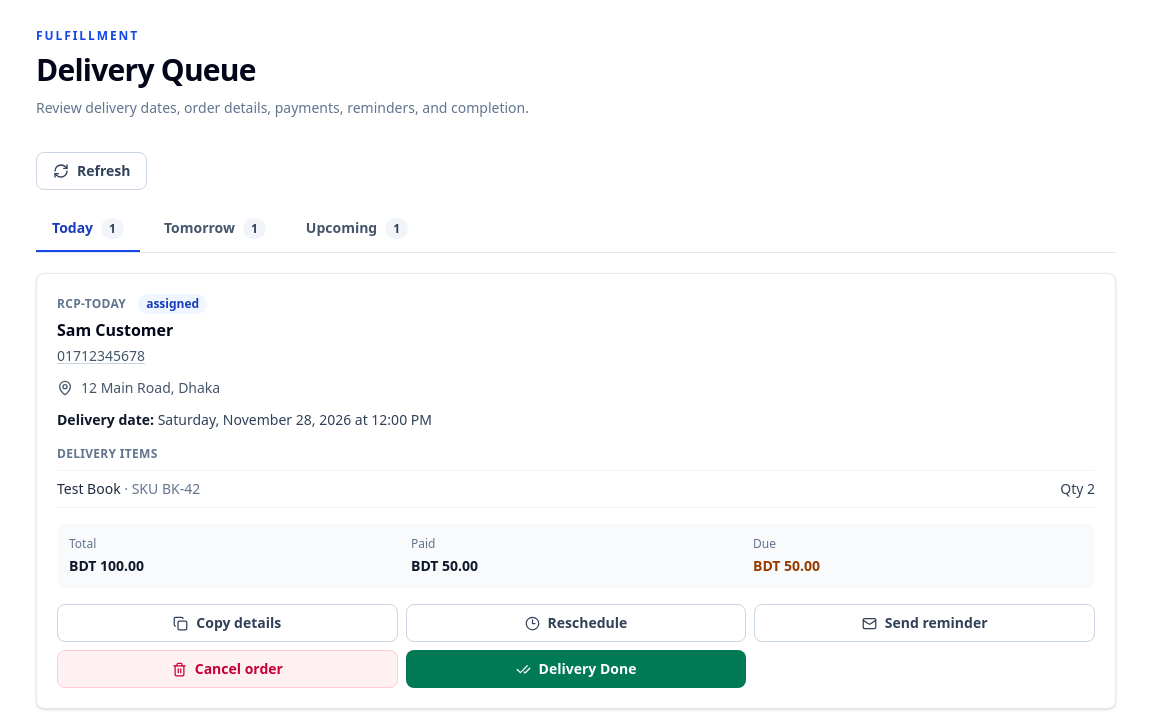
Test: Admin Delivery workflow › validates partial payment acknowledgement and moves delivered order to Delivery Done
Check: the text "RCP-TODAY" is shown, box x1=57 y1=296 x2=126 y2=312
Click the button "Delivery Done": (576, 669) x1=406 y1=650 x2=746 y2=688
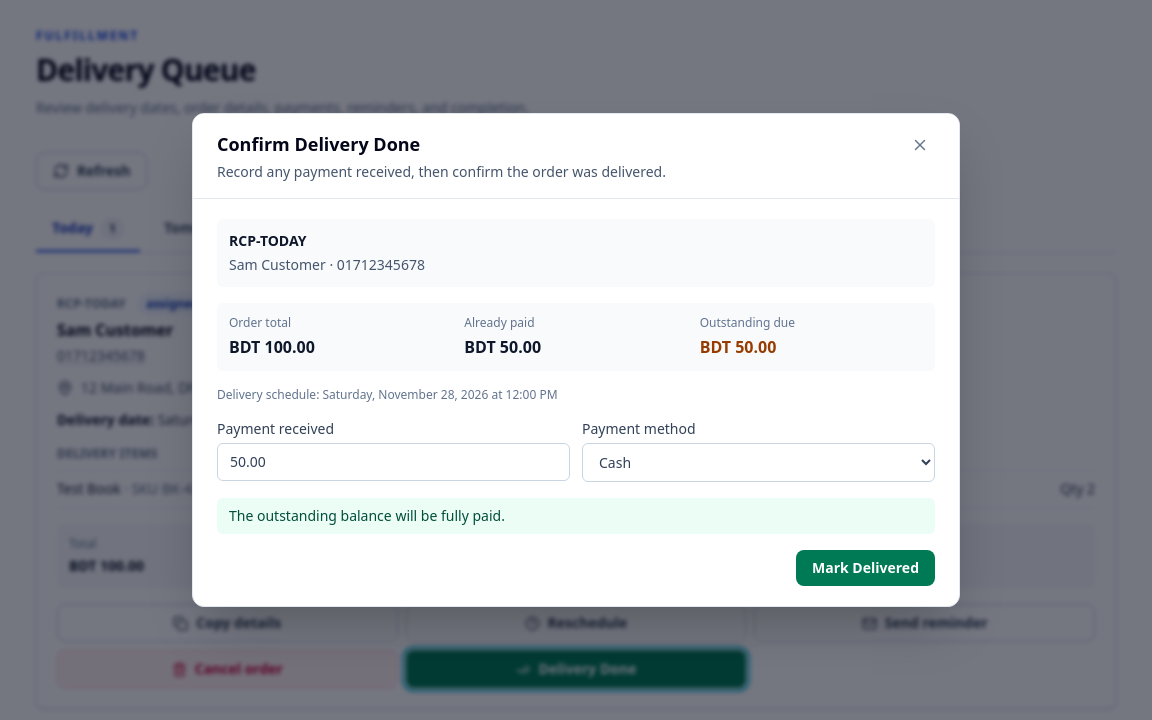
Replace the text in the number field labelled "Payment received" with "25": (394, 462) x1=217 y1=443 x2=570 y2=481
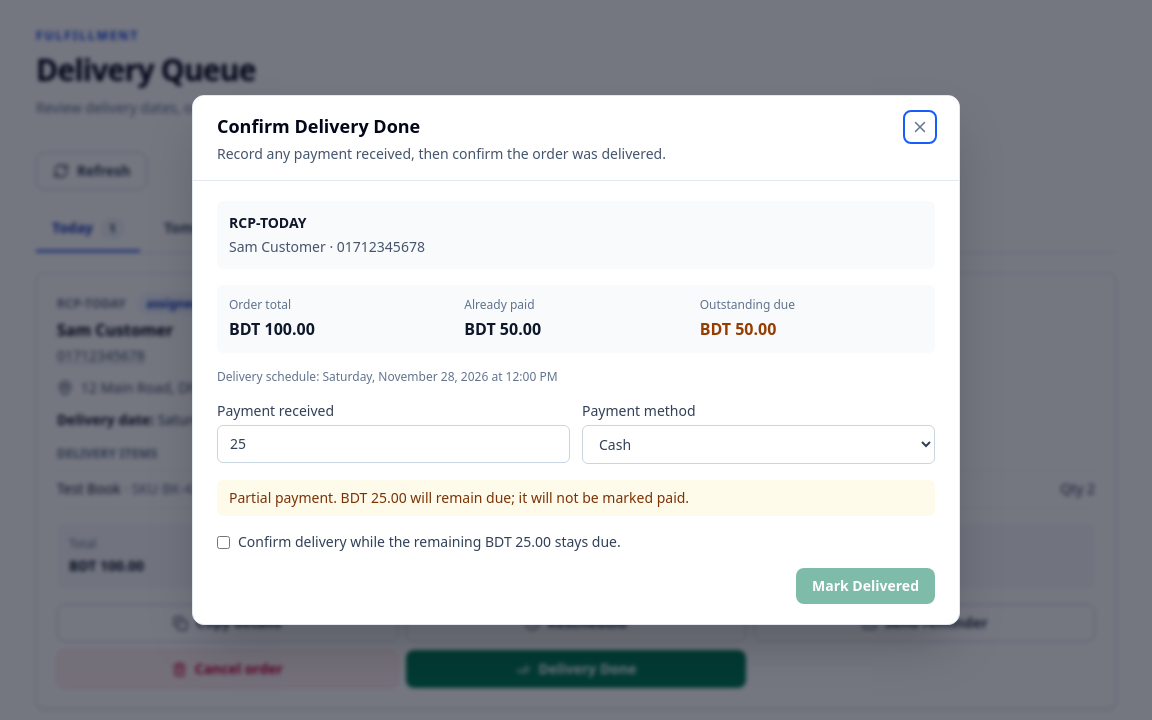
Check: the text "will remain due" is shown, box x1=229 y1=488 x2=689 y2=507
Check: the button "Mark Delivered" is disabled, box x1=796 y1=568 x2=935 y2=604
Click the checkbox: (224, 542) x1=217 y1=536 x2=230 y2=549
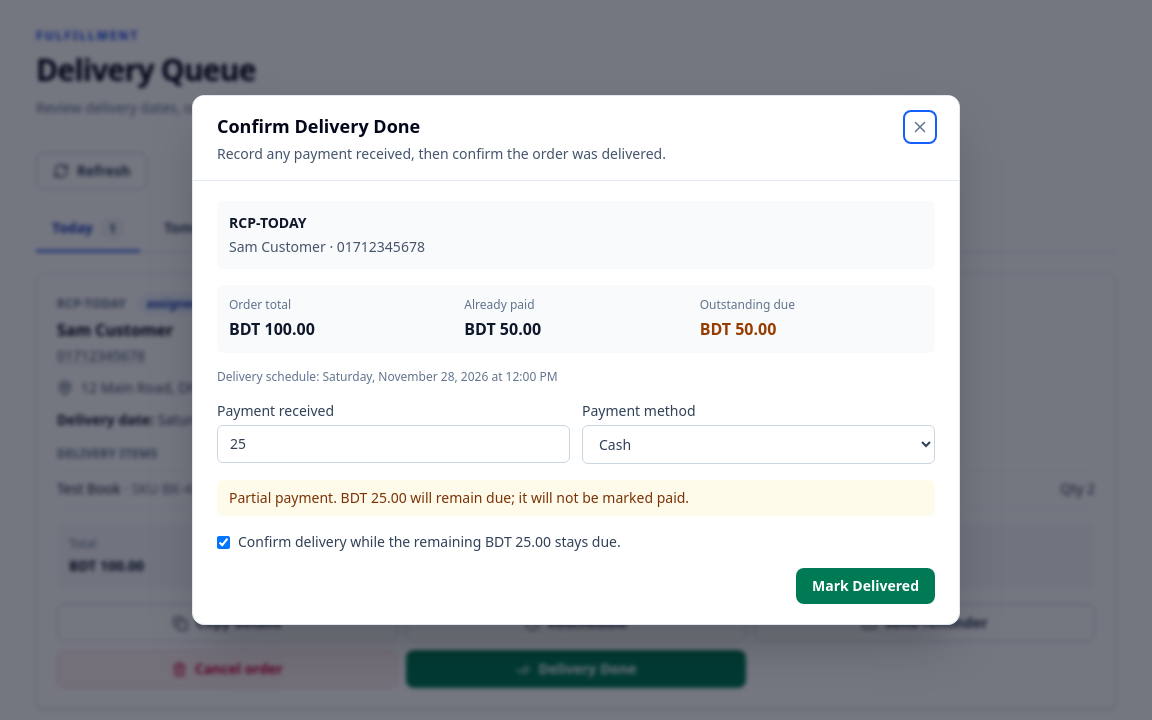
Check: the button "Mark Delivered" is enabled
Click the button "Mark Delivered": (866, 586) x1=796 y1=568 x2=935 y2=604
(page scrolled)
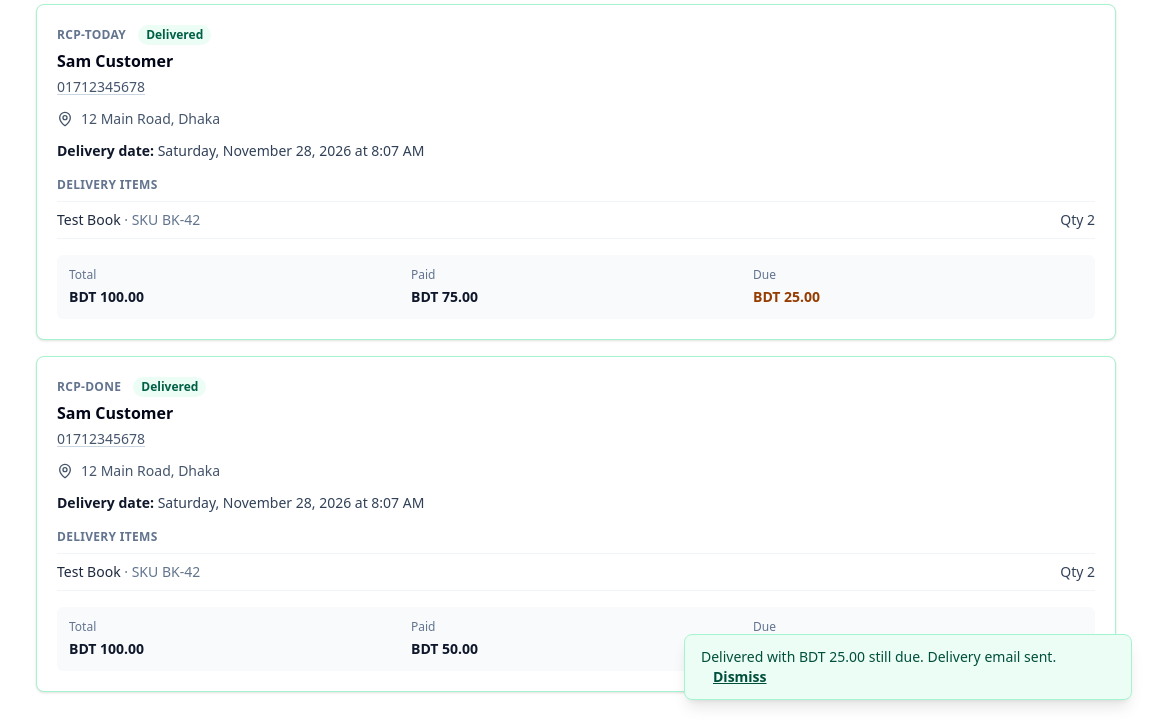
Check: the text "RCP-DONE" is shown, box x1=57 y1=379 x2=121 y2=395
Check: the text "Delivered with BDT 25.00 still due. Delivery email sent. Dismiss" is shown, box x1=684 y1=634 x2=1132 y2=700
Check: the dialog is gone
